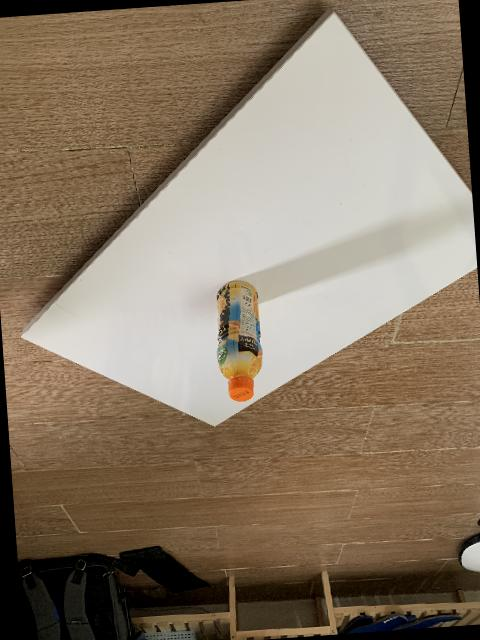teppy_orange_juice: (215, 280, 261, 400)
